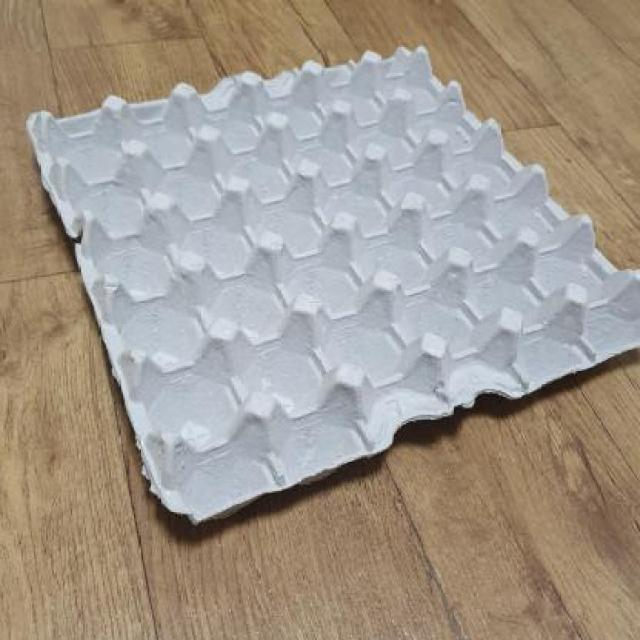box: (3, 35, 635, 569)
